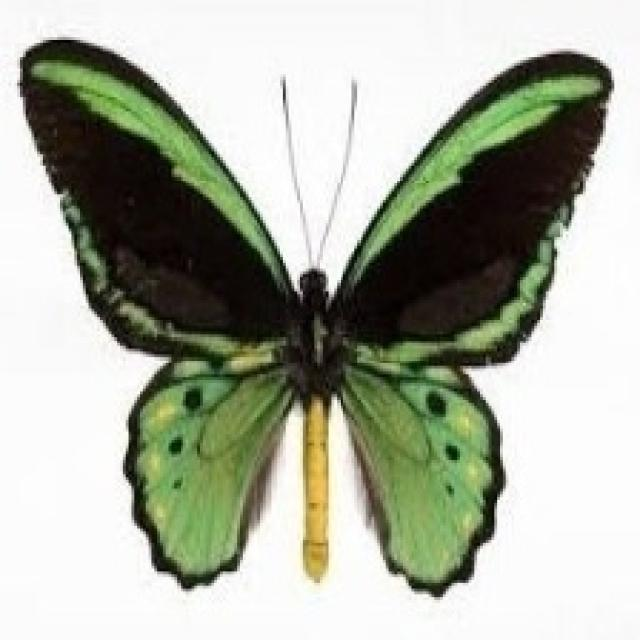butterfly: (14, 34, 614, 597)
